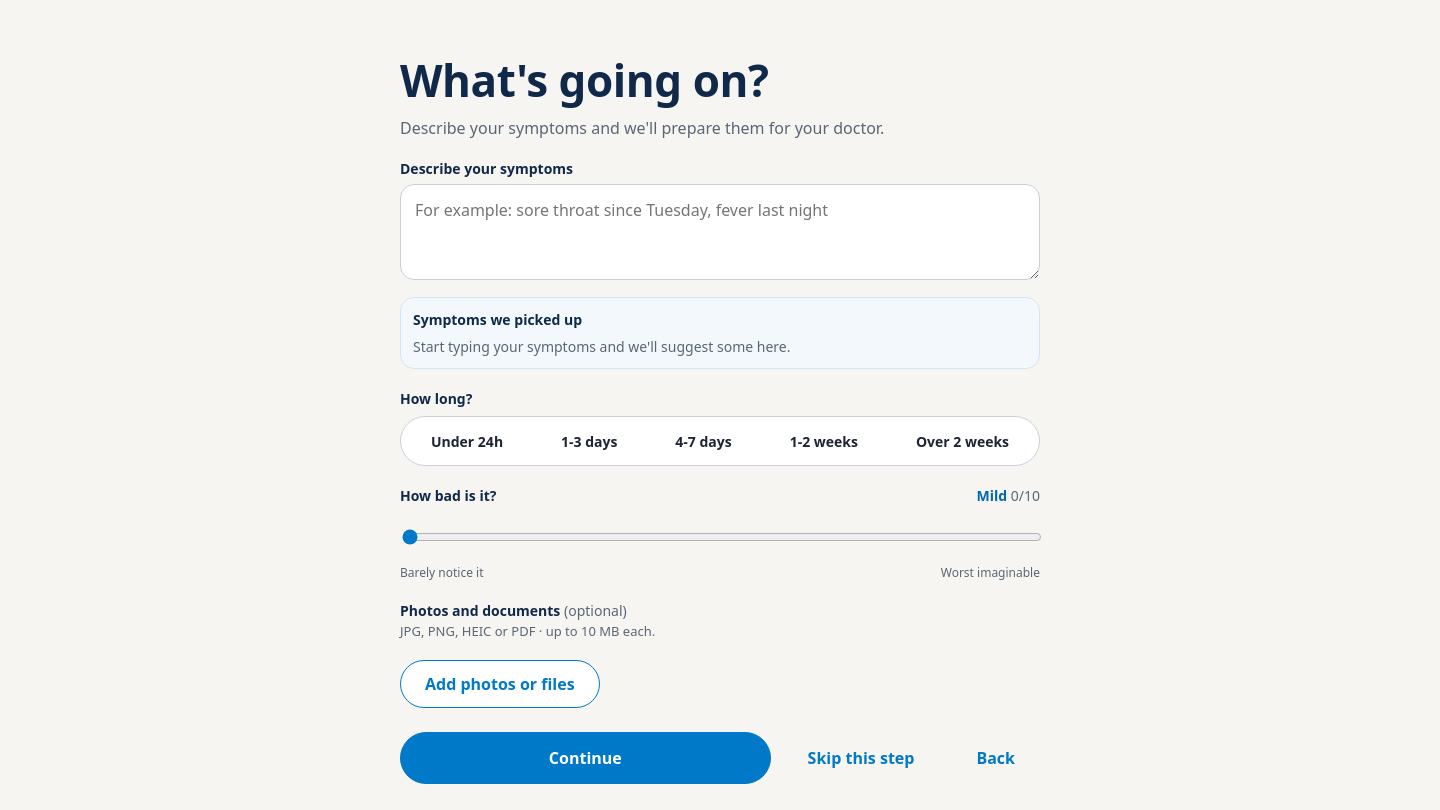
Scenario: P-04 Reason for consultation › shows the emergency alertdialog on a red-flag phrase and dismisses it
In the text box labelled "Describe your symptoms": coordinates (720, 232) top-left (400, 184), bottom-right (1040, 280), type "chest pain"
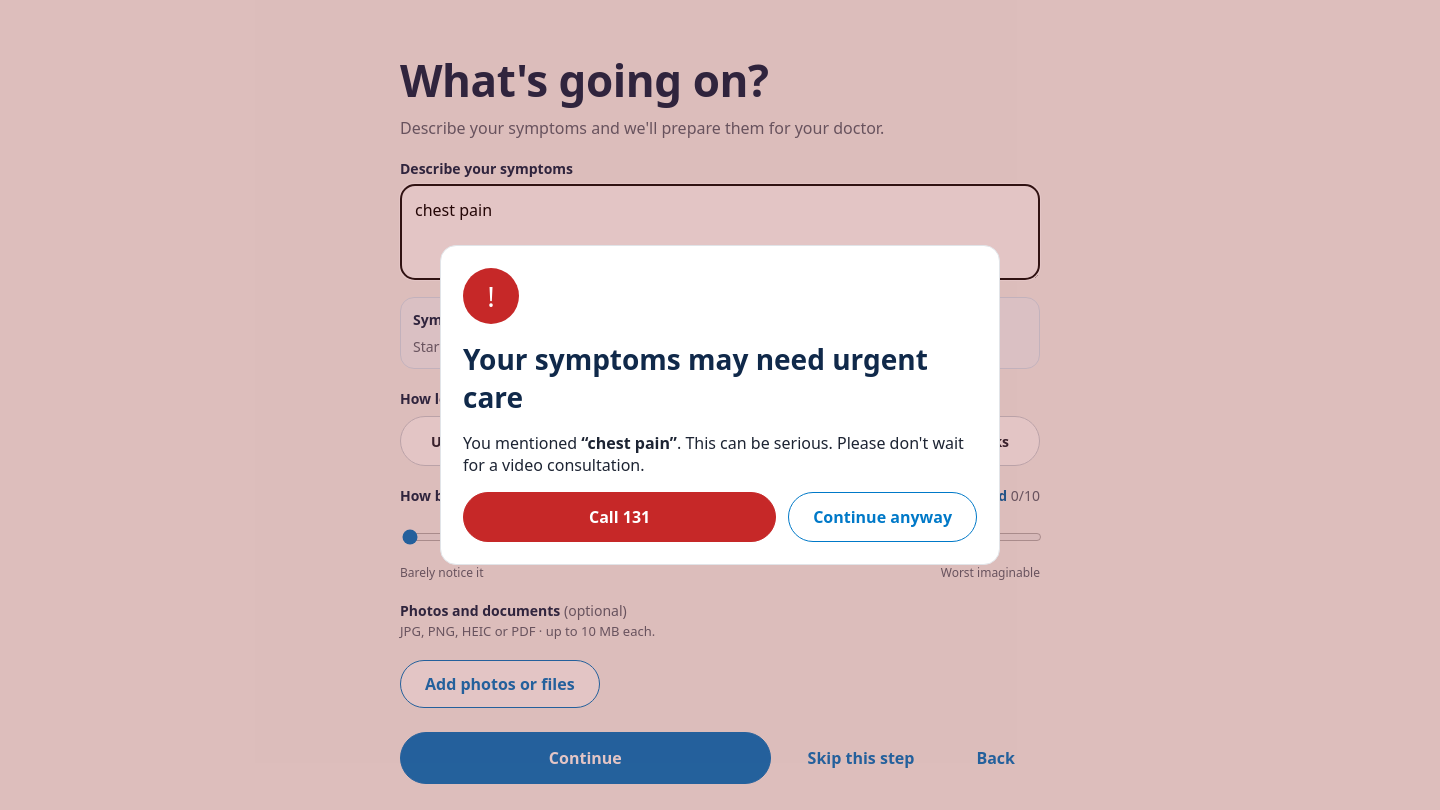
Click the button "Continue anyway": coordinates (883, 517) top-left (788, 492), bottom-right (977, 542)
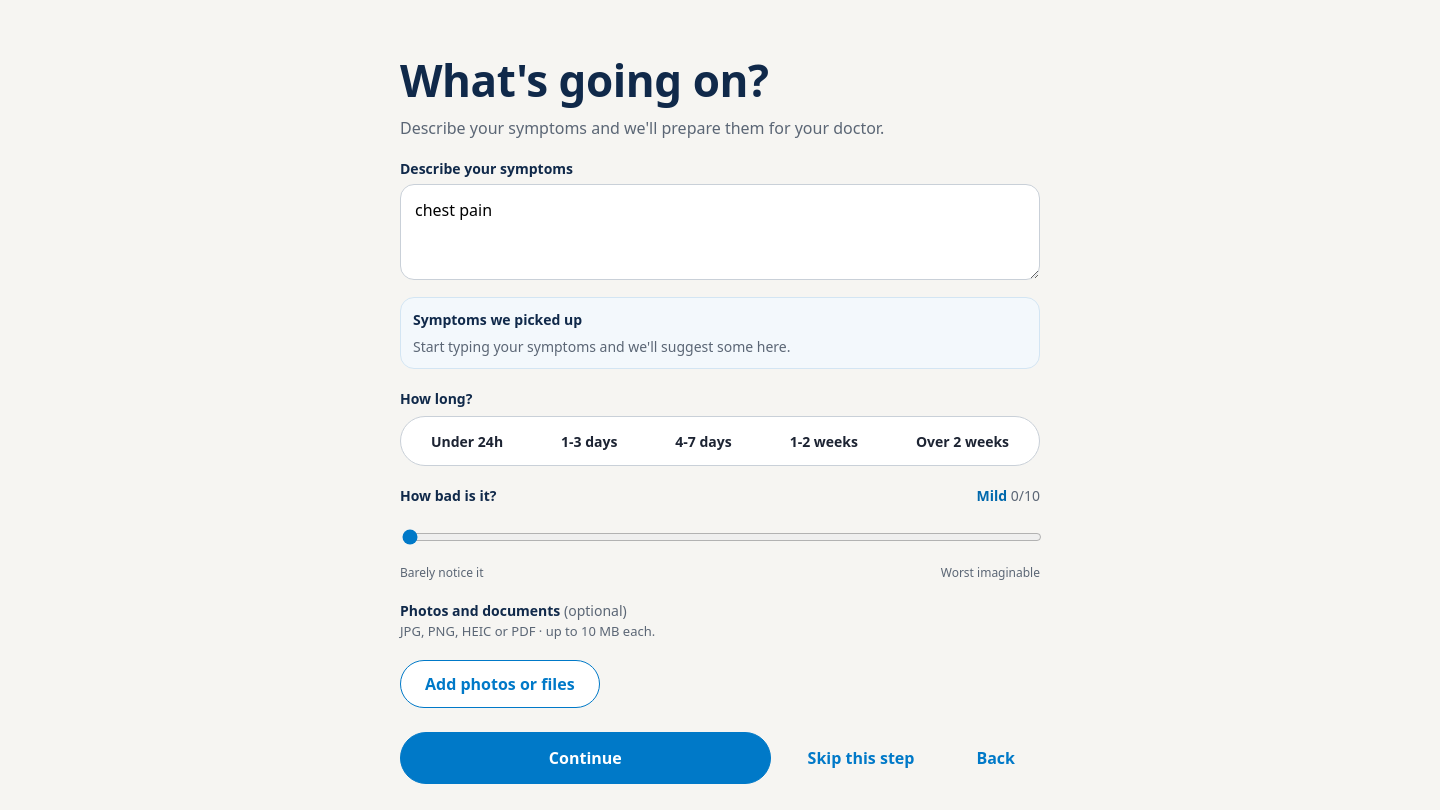
Now the dialog is gone
